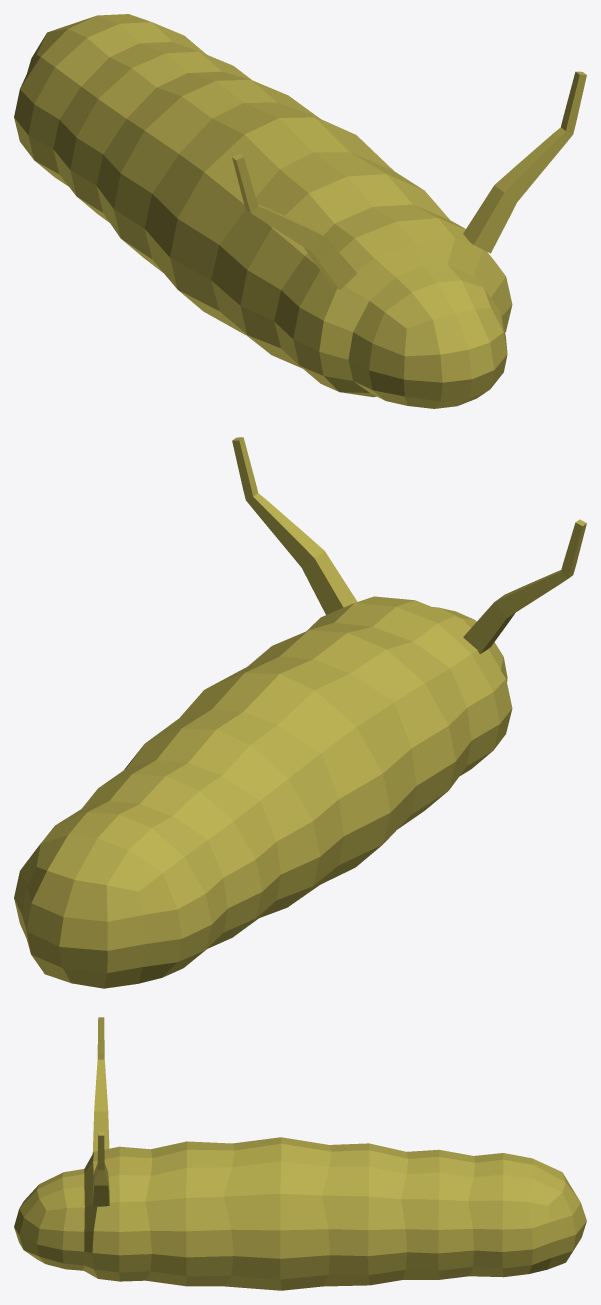
The model's file is pest_bug.glb.
3 views of the same model, one above another, from view 1: azimuth 30°, elevation 25°; view 2: azimuth 150°, elevation 25°; view 3: azimuth 270°, elevation 25° (orthographic). The views are drawn at different scales.
Parts seen in each view (by area): view 1: Roundcube.009; view 2: Roundcube.009; view 3: Roundcube.009.
Boxes of the visible parts, left/top/right/bottom form: Roundcube.009: left=14, top=14, right=586, bottom=408; Roundcube.009: left=14, top=437, right=586, bottom=988; Roundcube.009: left=14, top=1017, right=586, bottom=1290.
Size of the model in its own units: 0.1163 by 0.0926 by 0.2375.
